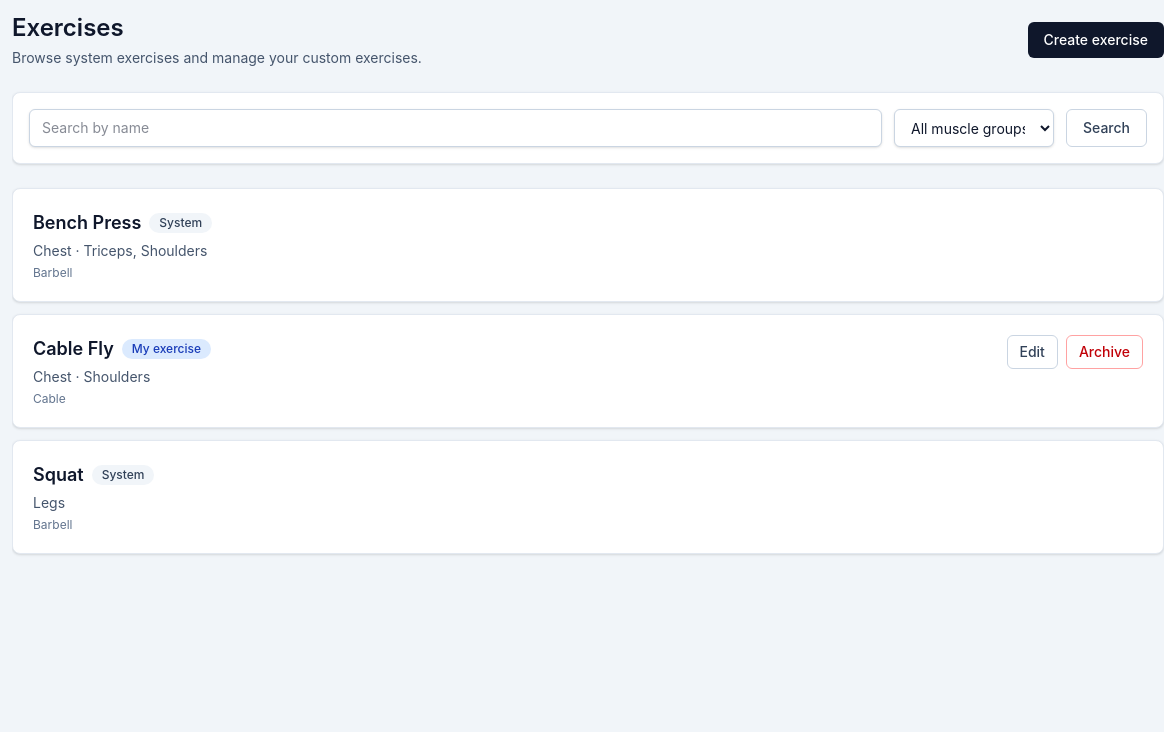
Test: ExerciseListPage › shows a filtered empty state
Expected: the heading "Bench Press" is shown, top-left (33, 209), bottom-right (141, 237)
Step 1. Type "missing" into the search field with placeholder "Search by name" → (456, 128), box top-left (29, 109), bottom-right (882, 147)
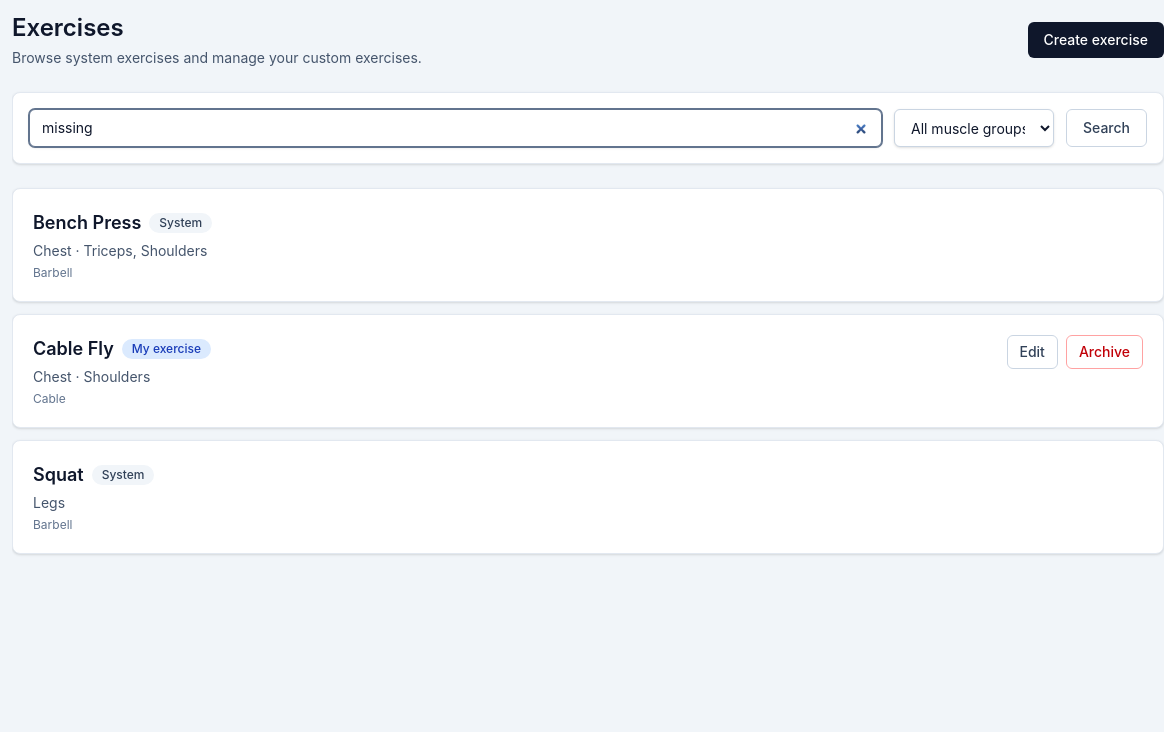
Step 2. Click the button "Search" → (1106, 128), box top-left (1066, 109), bottom-right (1147, 147)
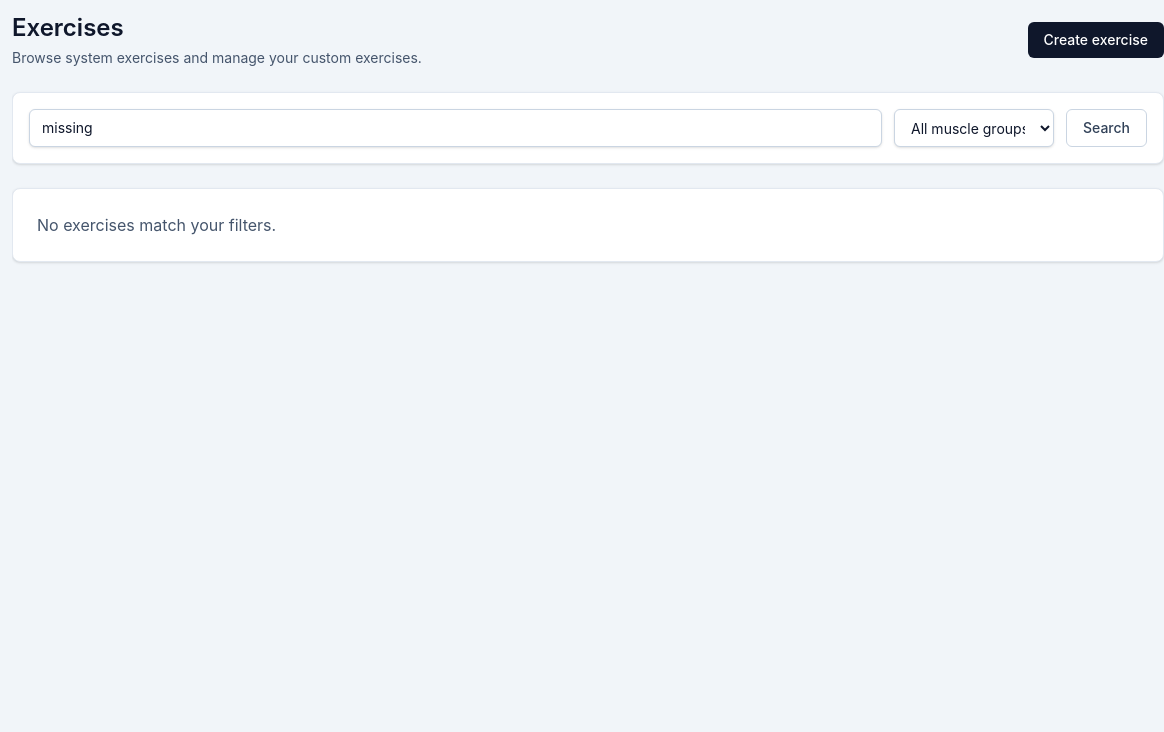
Expected: the text "No exercises match your filters." is shown, top-left (37, 215), bottom-right (276, 235)
